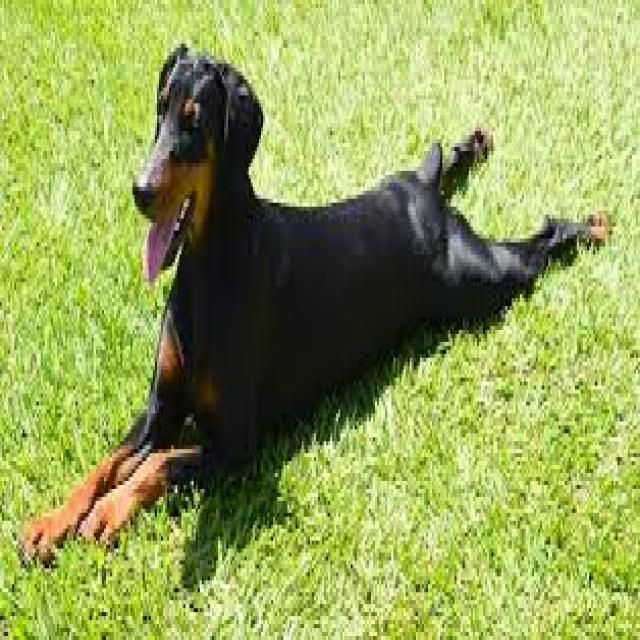Dog: (16, 35, 613, 576)
